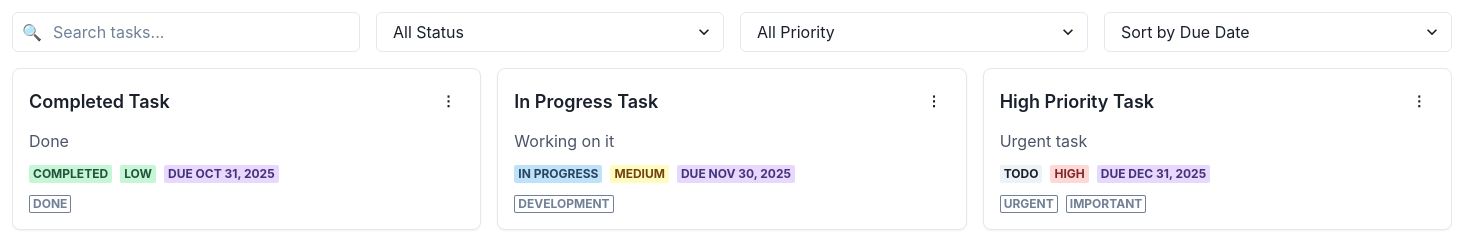
TaskList Component › filters tasks by search term
This screenshot has width=1464, height=247.
Step 1. Type "urgent" into the field with placeholder "Search tasks..." → [186, 32], box [12,12,360,52]
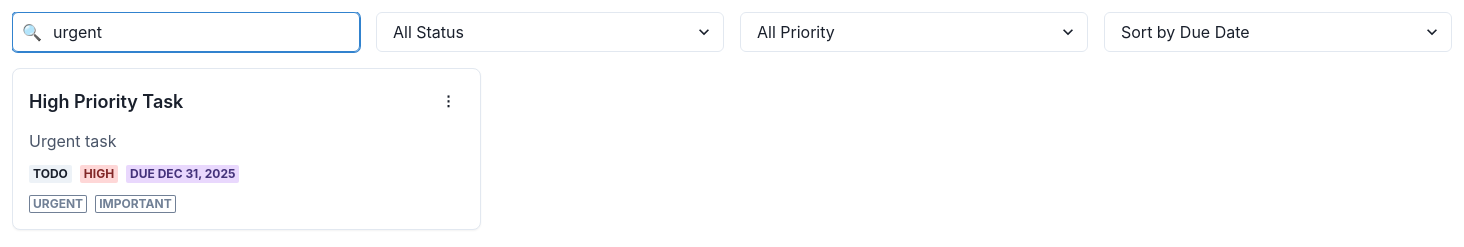
Expected: the text "High Priority Task" is shown, [29,88,183,114]
Expected: the text "In Progress Task" is gone
Expected: the text "Completed Task" is gone
